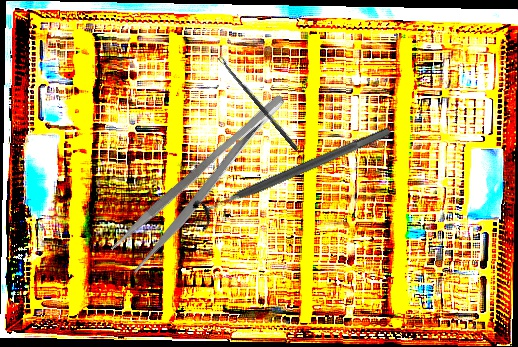Dressing Forceps: (107, 89, 303, 276)
Fixation Ring: (189, 115, 398, 232)
Surgical Spoon: (217, 55, 300, 152)
